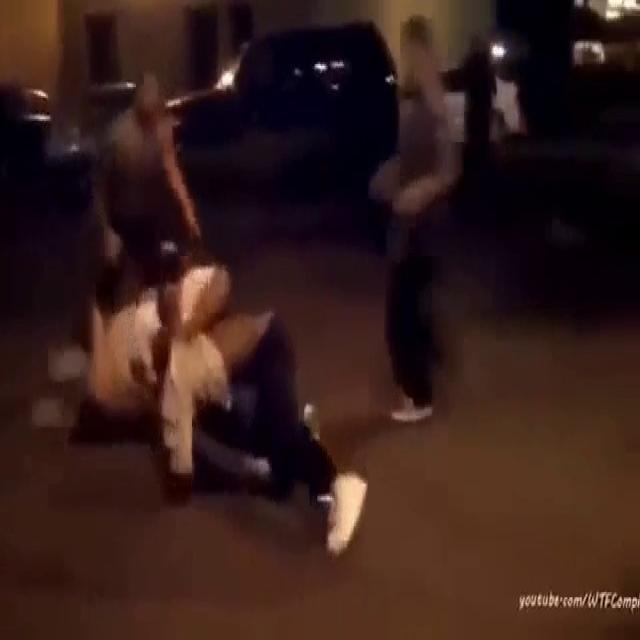non_violence: (377, 8, 456, 316)
violence: (93, 268, 337, 500)
